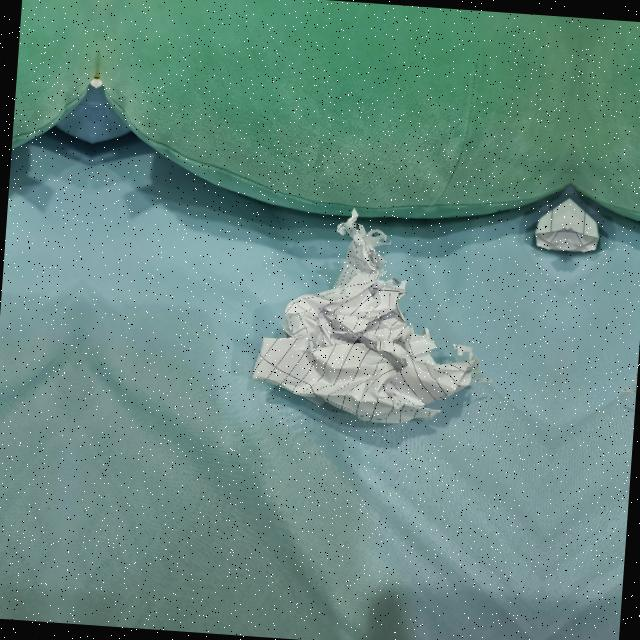paper: (244, 213, 486, 432)
